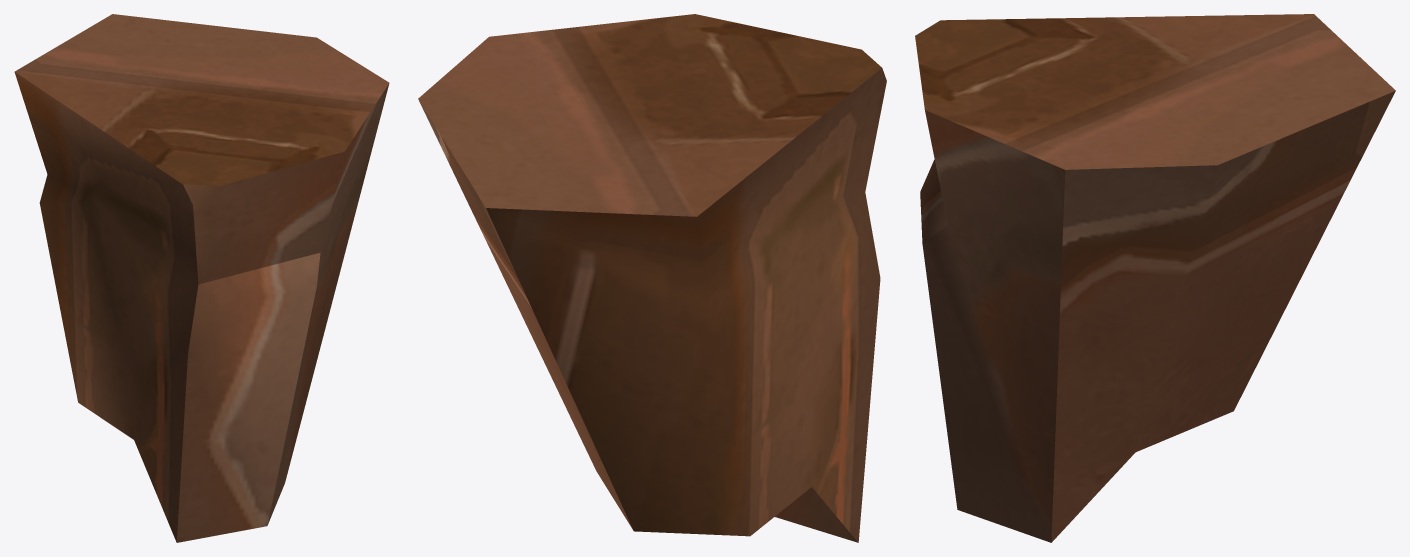
File: jfdx_sk7.FBX
3 renders of one model, left to right at view 1: azimuth 30°, elevation 25°; view 2: azimuth 150°, elevation 25°; view 3: azimuth 270°, elevation 25°, orthographic. The views are drawn at different scales.
Parts seen in each view (by area): view 1: jfdx_sk7; view 2: jfdx_sk7; view 3: jfdx_sk7.
Boxes of the visible parts, <box> form: jfdx_sk7: <box>14,14,389,542</box>; jfdx_sk7: <box>418,14,886,542</box>; jfdx_sk7: <box>915,14,1395,542</box>.
Size of the model in its own units: 2.47 by 3.23 by 3.23.
